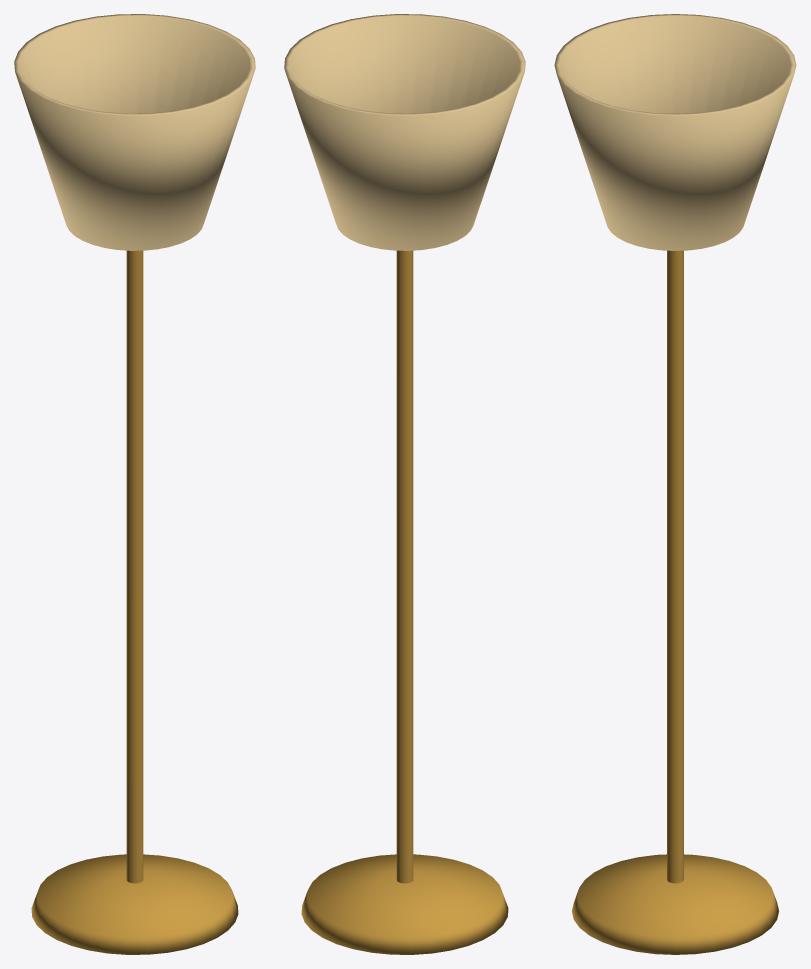
File: floor_lamp.glb
The picture shows the model from 3 angles, left to right: view 1: azimuth 30°, elevation 25°; view 2: azimuth 150°, elevation 25°; view 3: azimuth 270°, elevation 25°; orthographic projection.
Parts seen in each view (by area): view 1: floor_lamp; view 2: floor_lamp; view 3: floor_lamp.
Boxes of the visible parts, x1,y1,x2,y2 form: floor_lamp: (14, 14, 255, 954); floor_lamp: (284, 14, 525, 954); floor_lamp: (554, 14, 796, 954).
Bounding box in the file's own units: 0.42 × 1.62 × 0.42.
